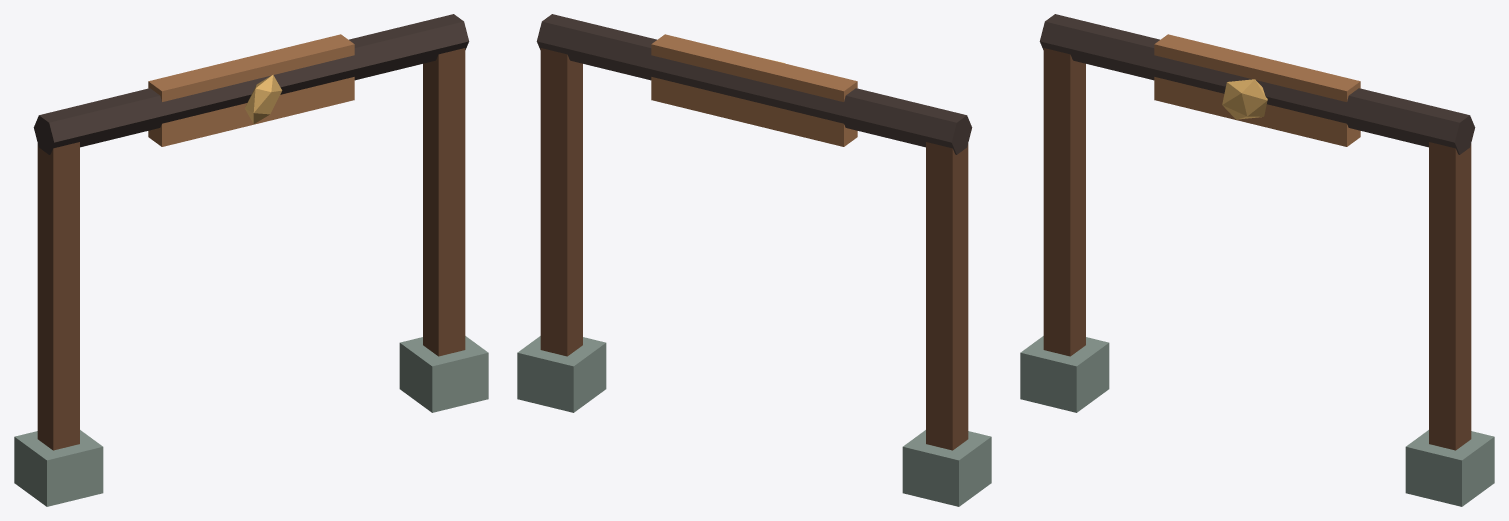
The model's file is brana.glb.
3 renders of one model, left to right at view 1: azimuth 30°, elevation 25°; view 2: azimuth 150°, elevation 25°; view 3: azimuth 330°, elevation 25°, orthographic.
Parts seen in each view (by area): view 1: material_785239, material_483b36, material_8b9b92, material_ad7950, material_e5b66a; view 2: material_785239, material_483b36, material_8b9b92, material_ad7950; view 3: material_785239, material_483b36, material_8b9b92, material_ad7950, material_e5b66a.
Part boxes in pixels (box(x1,y1,x2,y2)): material_785239: box(37, 48, 465, 450); material_483b36: box(33, 14, 469, 154); material_8b9b92: box(14, 336, 488, 506); material_ad7950: box(148, 34, 354, 146); material_e5b66a: box(244, 75, 282, 123); material_785239: box(540, 48, 968, 450); material_483b36: box(536, 14, 972, 154); material_8b9b92: box(517, 336, 991, 506); material_ad7950: box(651, 34, 857, 146); material_785239: box(1043, 48, 1471, 450); material_483b36: box(1039, 14, 1475, 154); material_8b9b92: box(1020, 336, 1494, 506); material_ad7950: box(1154, 34, 1360, 146); material_e5b66a: box(1222, 79, 1267, 119).
Size of the model in its own units: 2.98 by 2.44 by 0.4094.
